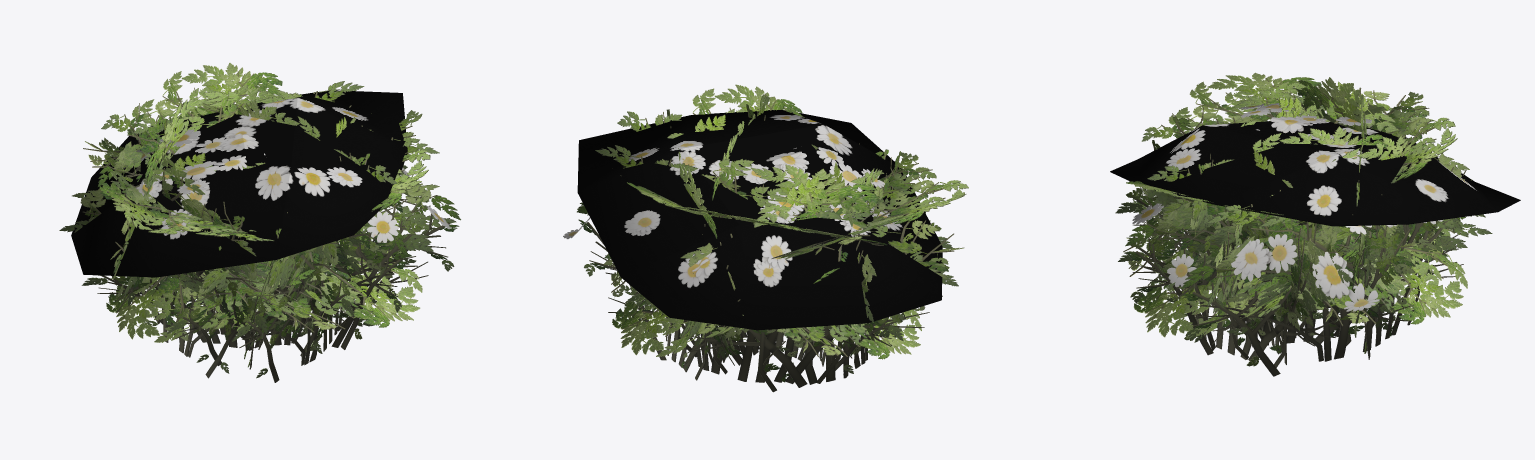
The model's file is bush3.fbx.
3 renders of one model, left to right at view 1: azimuth 30°, elevation 25°; view 2: azimuth 150°, elevation 25°; view 3: azimuth 270°, elevation 25°, orthographic. The views are drawn at different scales.
Visible parts, largest first — view 1: Flowers-02; view 2: Flowers-02; view 3: Flowers-02.
Boxes of the visible parts, x1,y1,x2,y2 form: Flowers-02: [59, 63, 460, 382]; Flowers-02: [563, 84, 968, 392]; Flowers-02: [1110, 72, 1520, 376].
Size of the model in its own units: 147 by 95.46 by 142.
